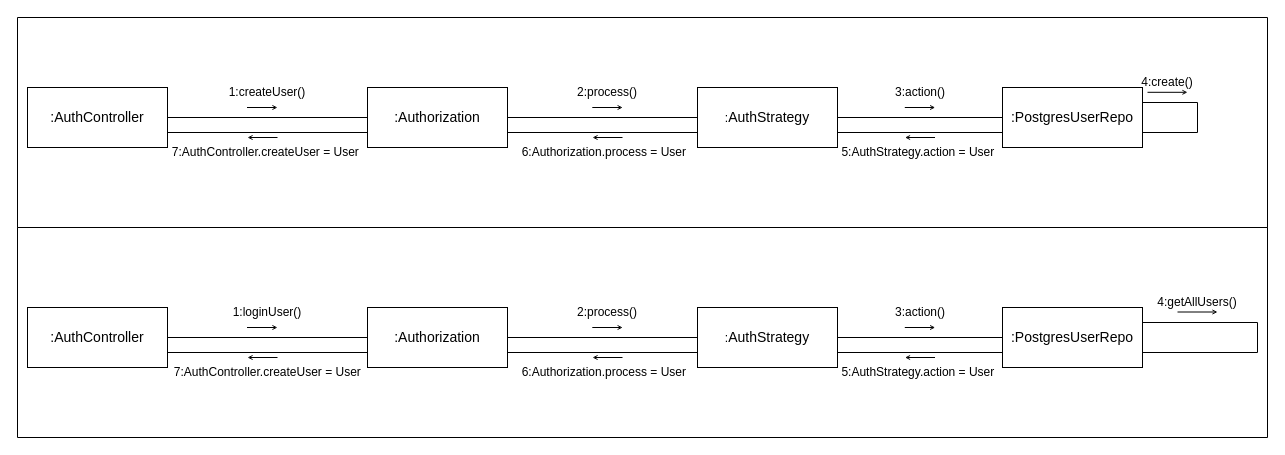
Image size: 1285x455. Some labels were removed from this diagram. Here are the shapes that lost their labels. From the top down, the centre of each, then its label:
At (x=642, y=122): "Регистрация".
At (x=642, y=332): "Вход".
